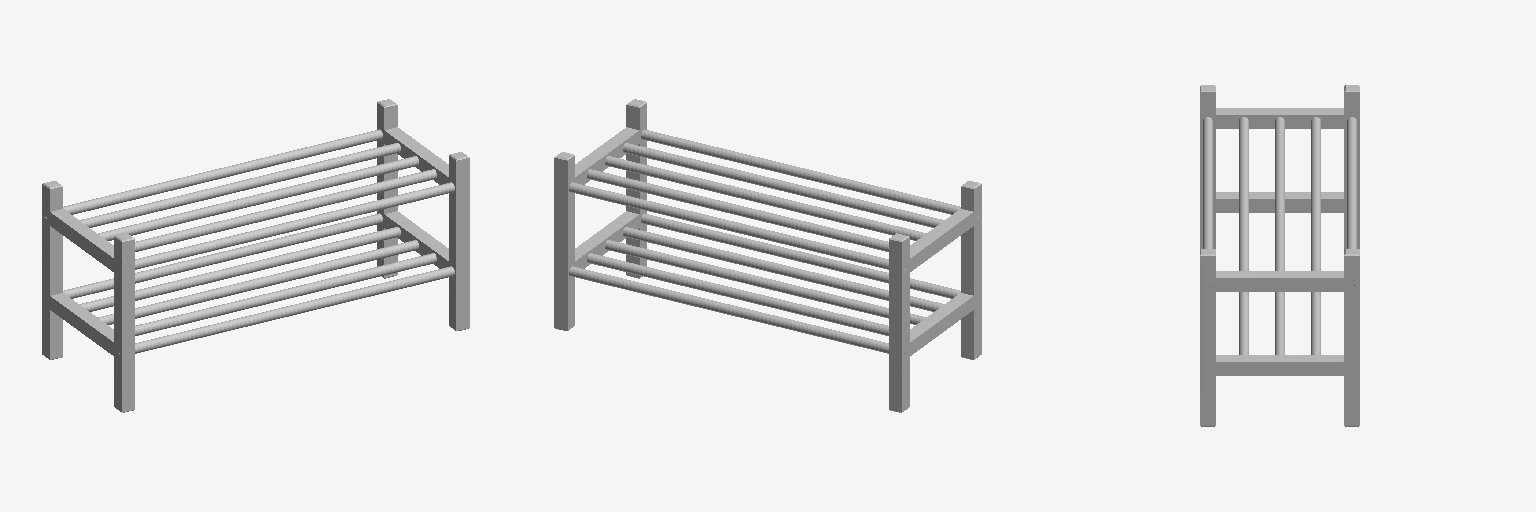
File: Shoe_rack .obj
3 views of the same model, side by side, from view 1: azimuth 30°, elevation 25°; view 2: azimuth 150°, elevation 25°; view 3: azimuth 270°, elevation 25° (orthographic).
Parts seen in each view (by area): view 1: IKEA_Skohylla_TJUSIG_Cylinder.027; view 2: IKEA_Skohylla_TJUSIG_Cylinder.027; view 3: IKEA_Skohylla_TJUSIG_Cylinder.027.
Part boxes in pixels (bbox=[...]): IKEA_Skohylla_TJUSIG_Cylinder.027: bbox=[42, 99, 469, 412]; IKEA_Skohylla_TJUSIG_Cylinder.027: bbox=[554, 99, 981, 412]; IKEA_Skohylla_TJUSIG_Cylinder.027: bbox=[1200, 85, 1359, 426].
Bounding box in the file's own units: 3.81 × 1.81 × 1.51.